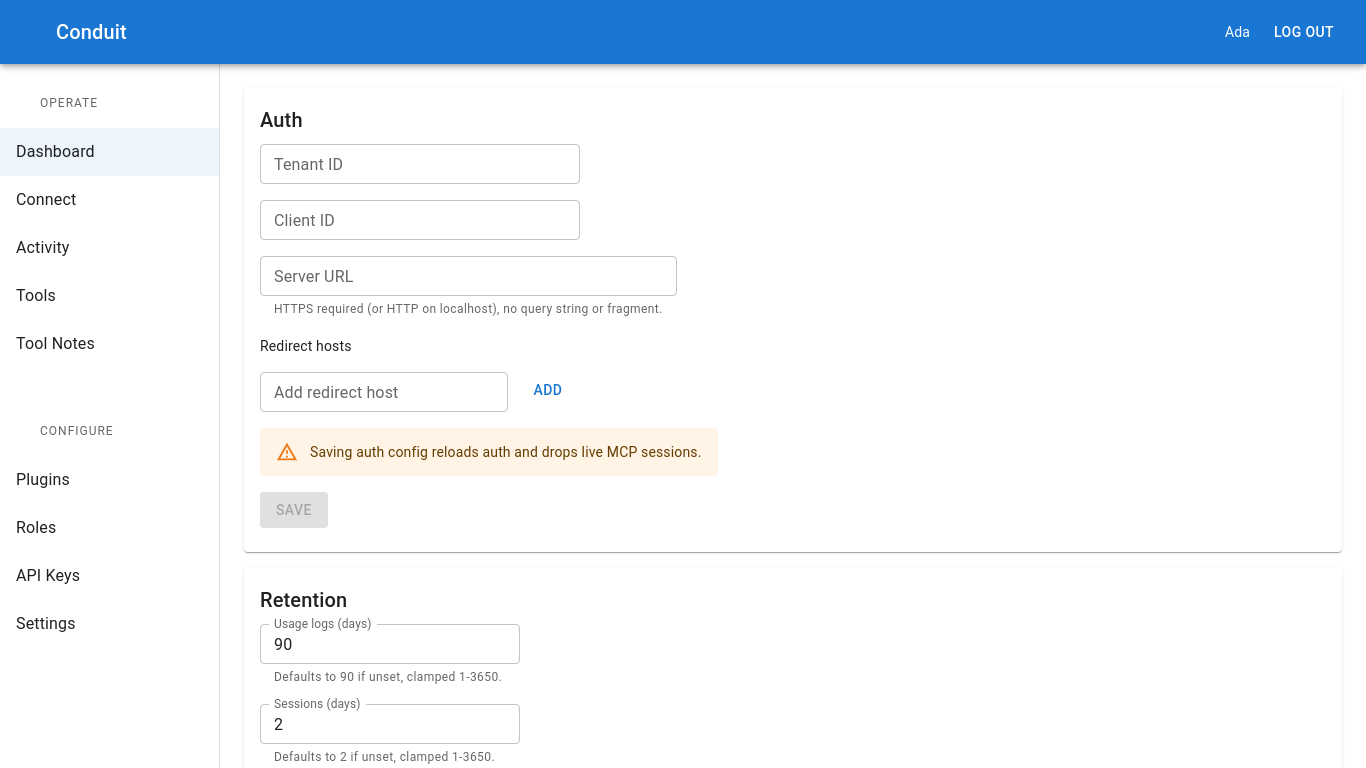
Test case: settings page › 409 refetches and notifies instead of showing a field error
Type "t" into the field labelled "Tenant ID" at (420, 164), box [260,144,580,184]
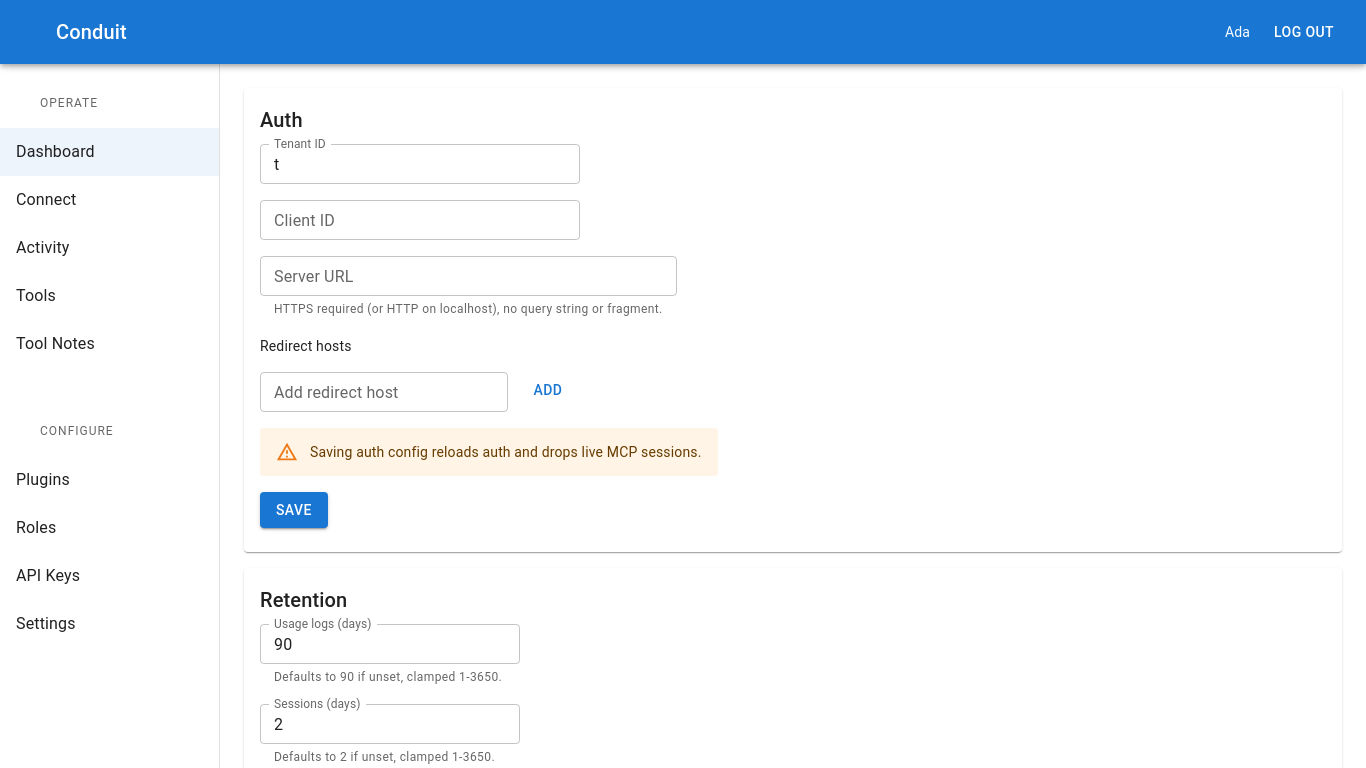
Click the button "Save" at (294, 510), box [260,492,328,528]
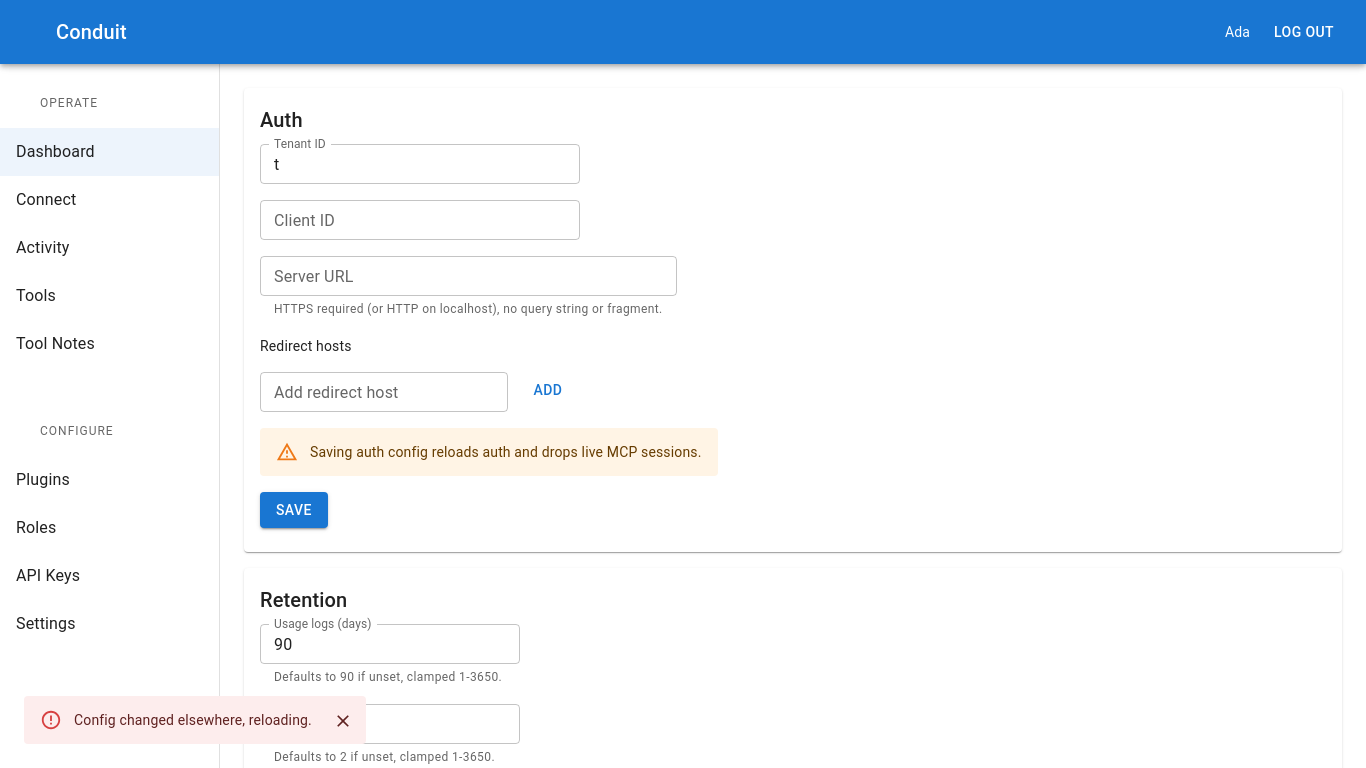
Now the text "Config changed elsewhere, reloading." is shown, box [74,712,312,728]
